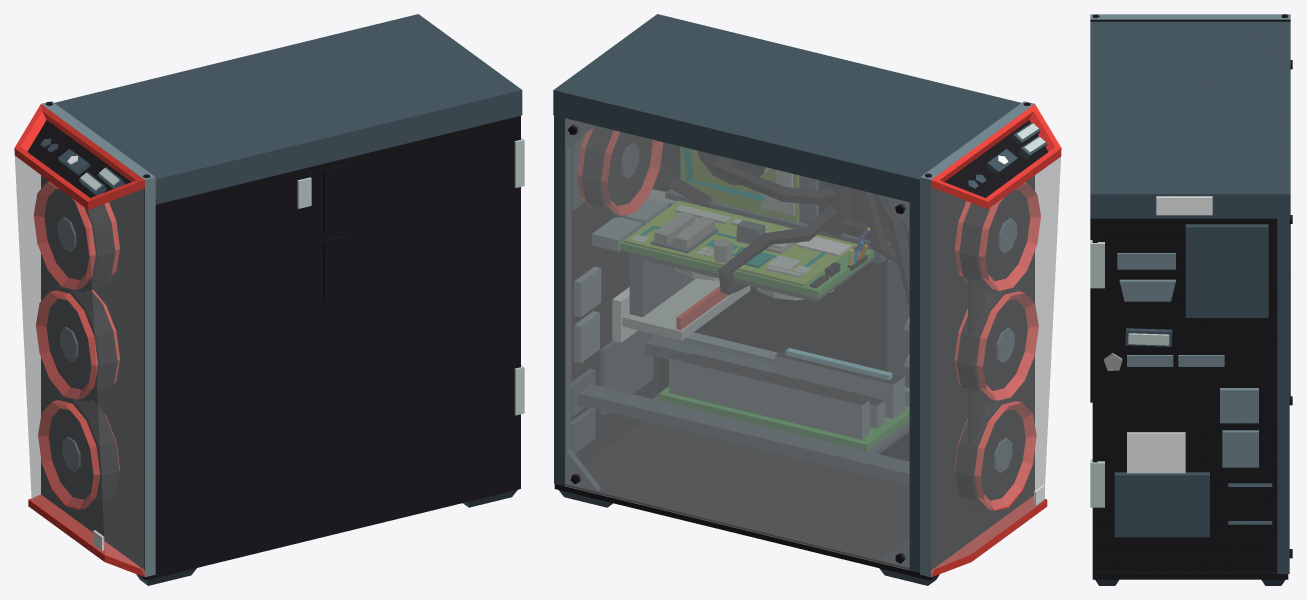
3 views of the same model, side by side, from view 1: azimuth 30°, elevation 25°; view 2: azimuth 150°, elevation 25°; view 3: azimuth 270°, elevation 25° (orthographic). The views are drawn at different scales.
Visible parts, largest first — view 1: group549538436; view 2: group549538436; view 3: group549538436.
Boxes of the visible parts, x1,y1,x2,y2 form: group549538436: [14, 14, 524, 585]; group549538436: [553, 14, 1061, 585]; group549538436: [1090, 14, 1292, 585].
Bounding box in the file's own units: 1.94 × 1.8 × 0.8277.
2 materials, 2 textured.
